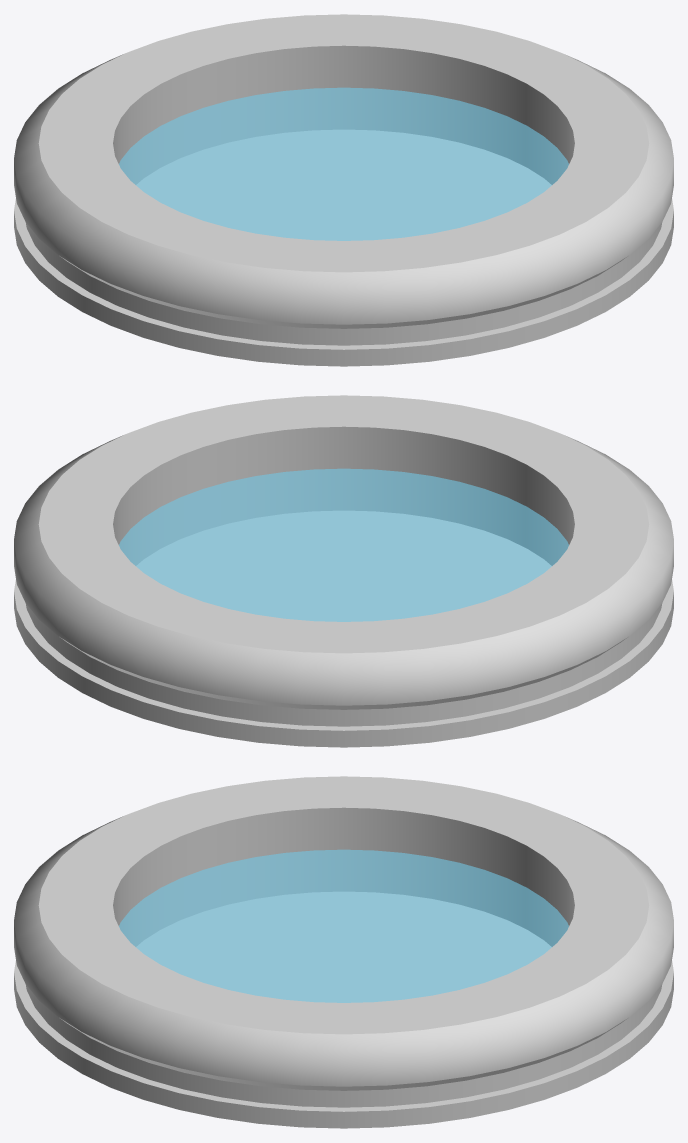
Rendered from ft-fountain.glb.
3 renders of one model, top to bottom at view 1: azimuth 30°, elevation 25°; view 2: azimuth 150°, elevation 25°; view 3: azimuth 270°, elevation 25°, orthographic.
Parts seen in each view (by area): view 1: fountain-round, (%ignore); view 2: fountain-round, (%ignore); view 3: fountain-round, (%ignore).
Part boxes in pixels (x1,y1,x2,y2): fountain-round: (14, 14, 673, 366); (%ignore): (119, 87, 568, 240); fountain-round: (14, 395, 673, 747); (%ignore): (119, 468, 568, 621); fountain-round: (14, 776, 673, 1128); (%ignore): (119, 849, 568, 1002).
Size of the model in its own units: 2 by 0.28 by 2.
